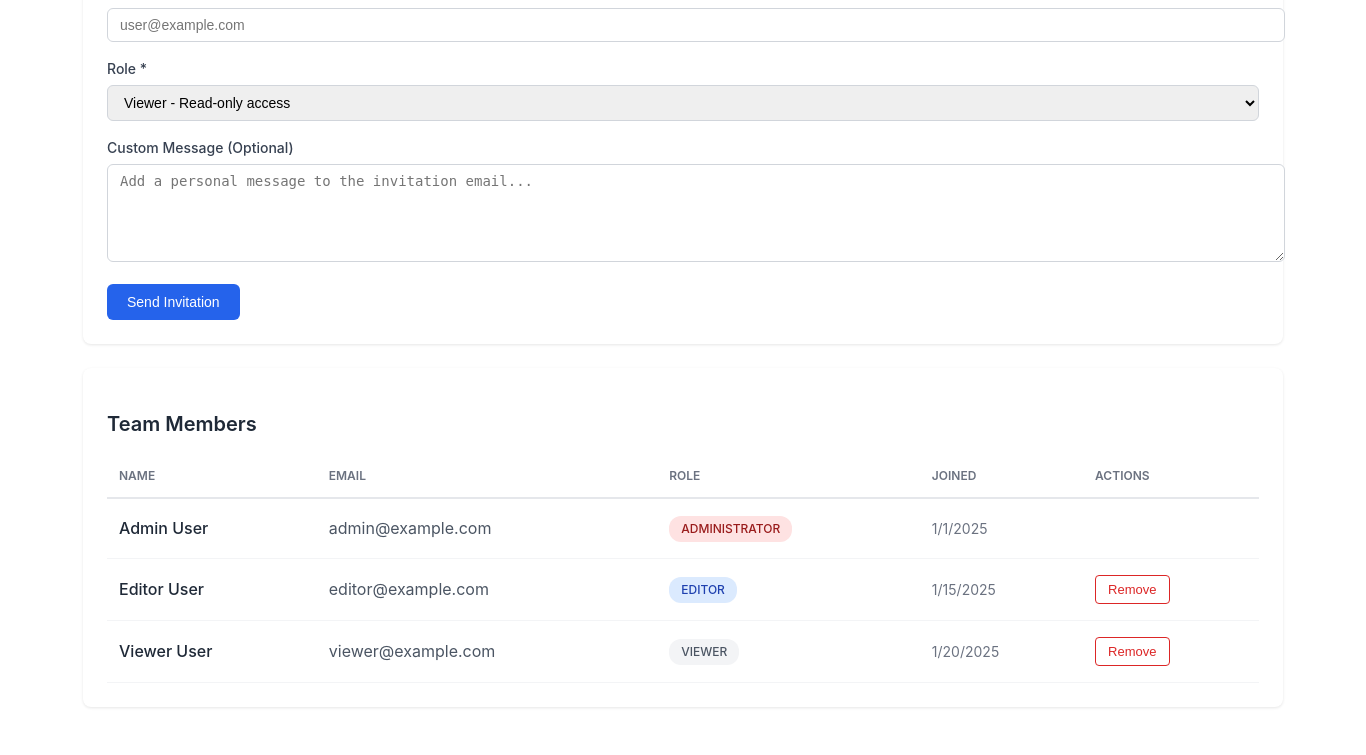
Test case: SettingsPage Integration Tests › Remove User Workflow › displays permission error when user lacks access to remove
(page scrolled)
Expected: the text "Editor User" is shown, [119,579,204,599]
Click the button "Remove" in the row of "Editor User" at (1132, 589), box [1095,575,1170,604]
(page scrolled)
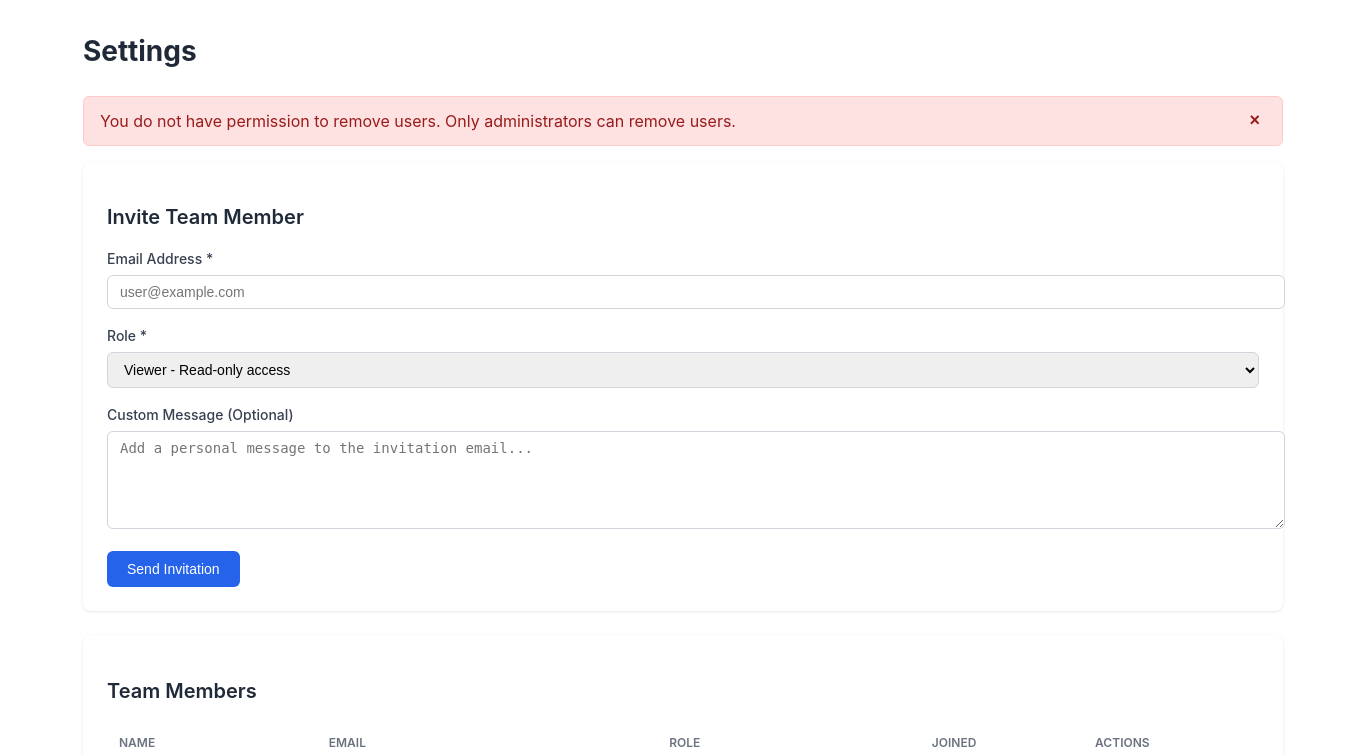
Expected: the text "permission to remove users" is shown, [100,111,736,131]
